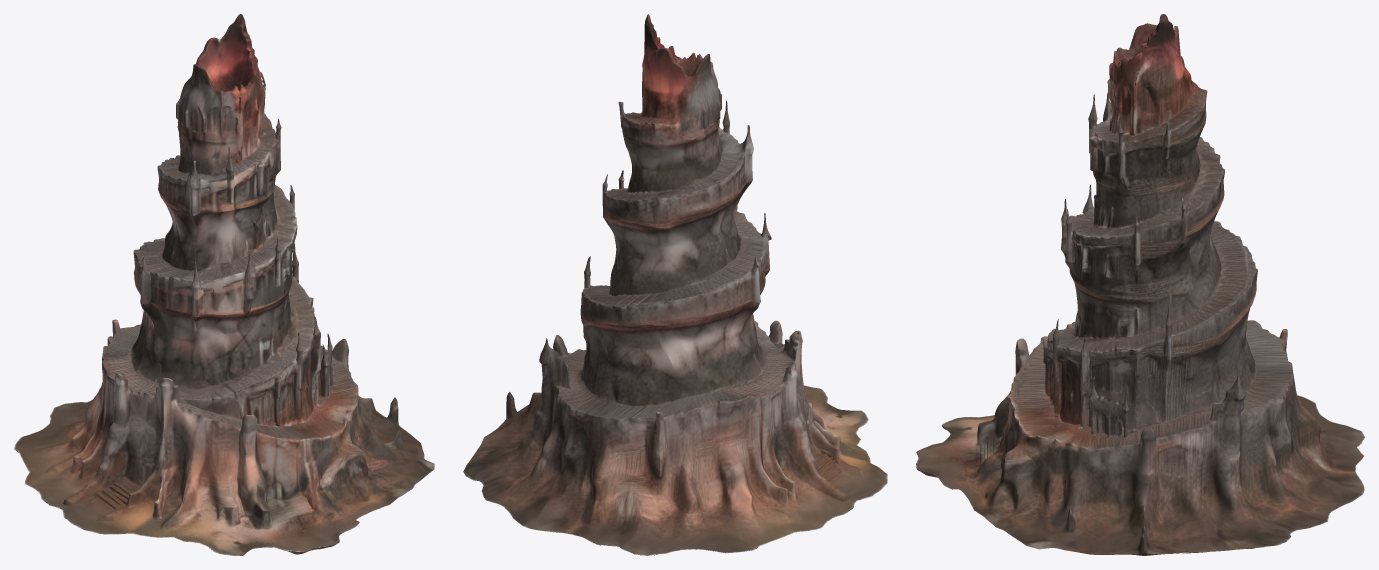
The model's file is proving.glb.
3 renders of one model, left to right at view 1: azimuth 30°, elevation 25°; view 2: azimuth 150°, elevation 25°; view 3: azimuth 270°, elevation 25°, orthographic. The views are drawn at different scales.
Visible parts, largest first — view 1: model; view 2: model; view 3: model.
Part boxes in pixels (x1=…): model: x1=14, y1=14, x2=434, y2=555; model: x1=463, y1=14, x2=887, y2=555; model: x1=916, y1=14, x2=1364, y2=555.
Size of the model in its own units: 1.54 by 1.9 by 1.63.
Materials: 1 (1 with a texture image).
